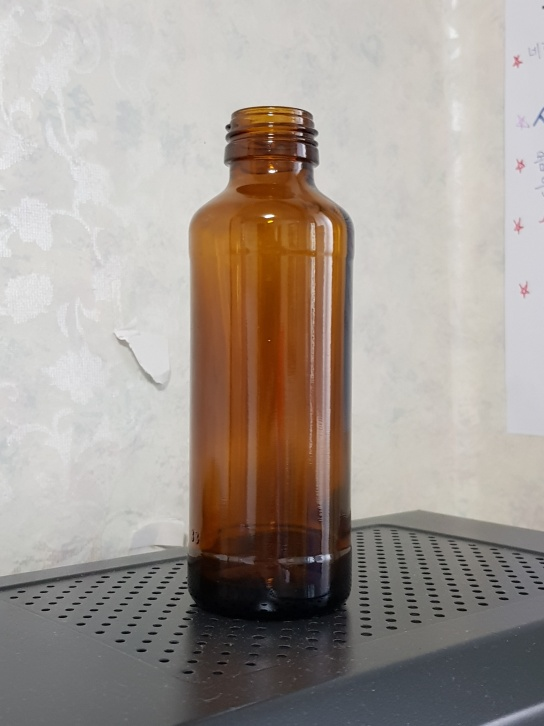Glass: (188, 103, 355, 618)
